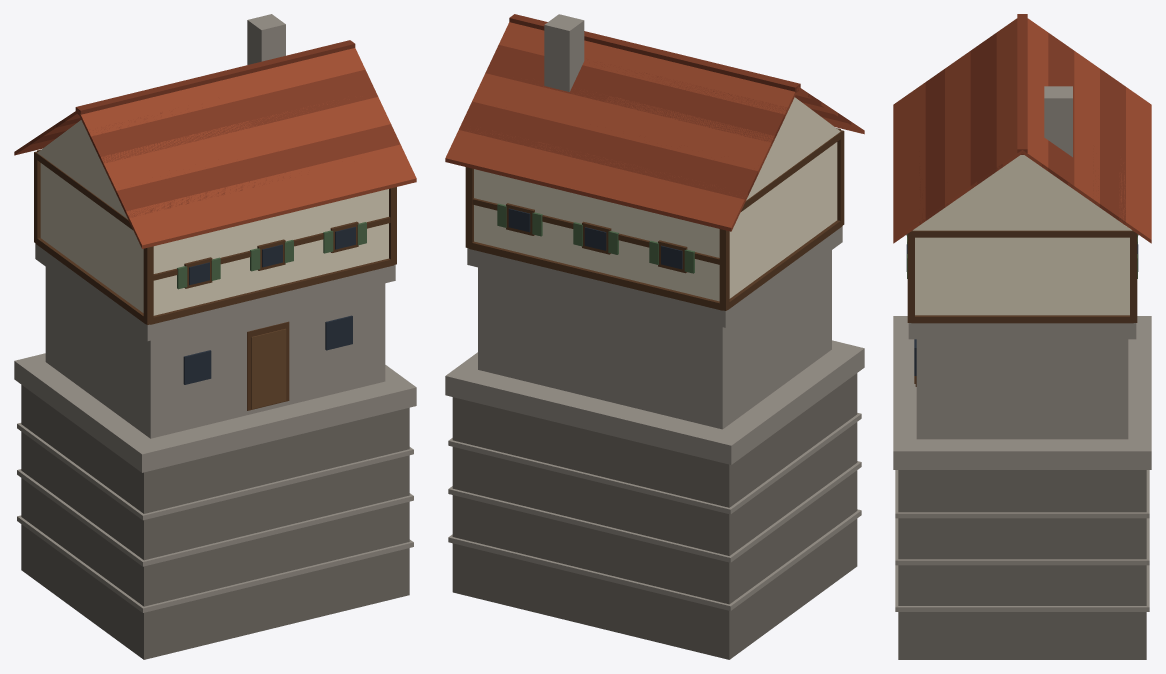
Rendered from house_l3.glb.
3 renders of one model, left to right at view 1: azimuth 30°, elevation 25°; view 2: azimuth 150°, elevation 25°; view 3: azimuth 270°, elevation 25°, orthographic. The views are drawn at different scales.
Visible parts, largest first — view 1: house_l3; view 2: house_l3; view 3: house_l3.
Part boxes in pixels (x1,y1,x2,y2): house_l3: (14,14,416,659); house_l3: (445,14,864,659); house_l3: (893,14,1151,659).
Size of the model in its own units: 6.2 by 11.45 by 5.
